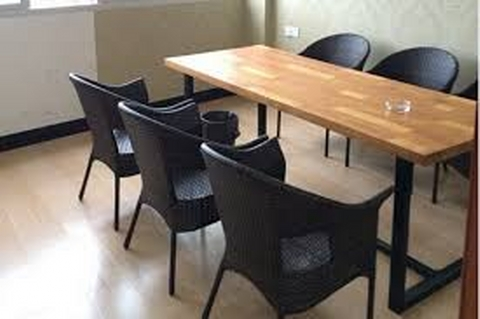kursi: (201, 137, 395, 319), (117, 101, 270, 296), (67, 74, 194, 229)
meja: (163, 45, 480, 314)
